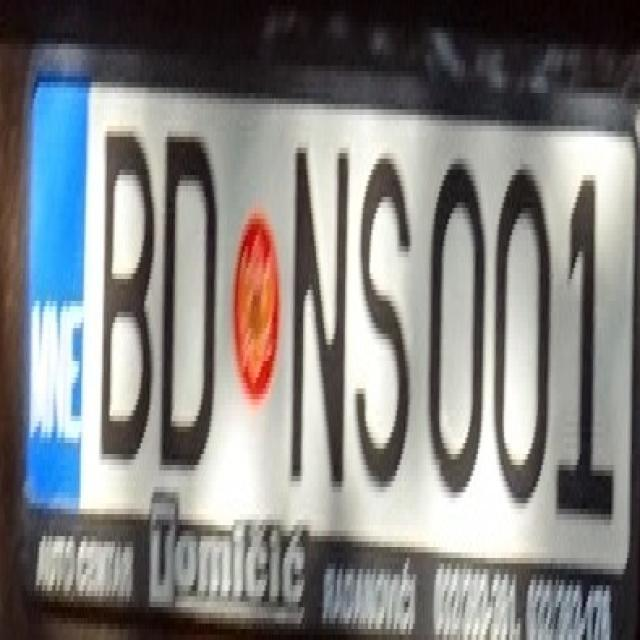0: (418, 136, 493, 504), (483, 136, 556, 514)
1: (546, 142, 621, 525)
B: (92, 103, 158, 470)
D: (150, 103, 220, 470)
N: (282, 126, 352, 487)
S: (347, 131, 415, 498)
